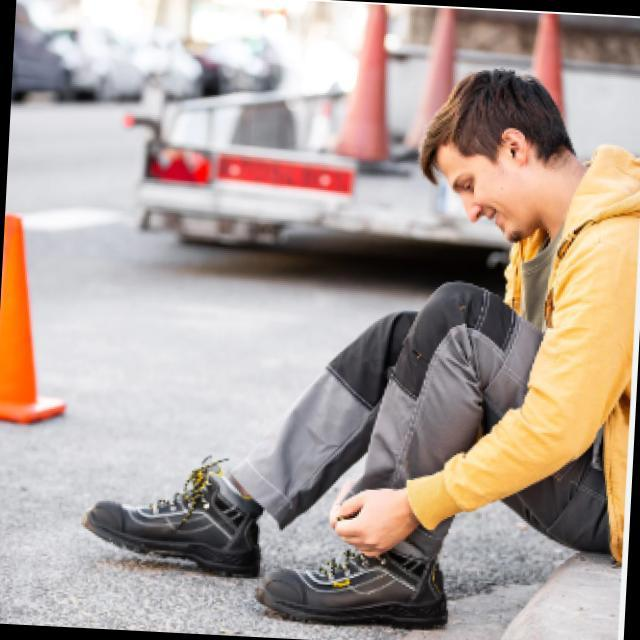shoes: (73, 452, 462, 637)
